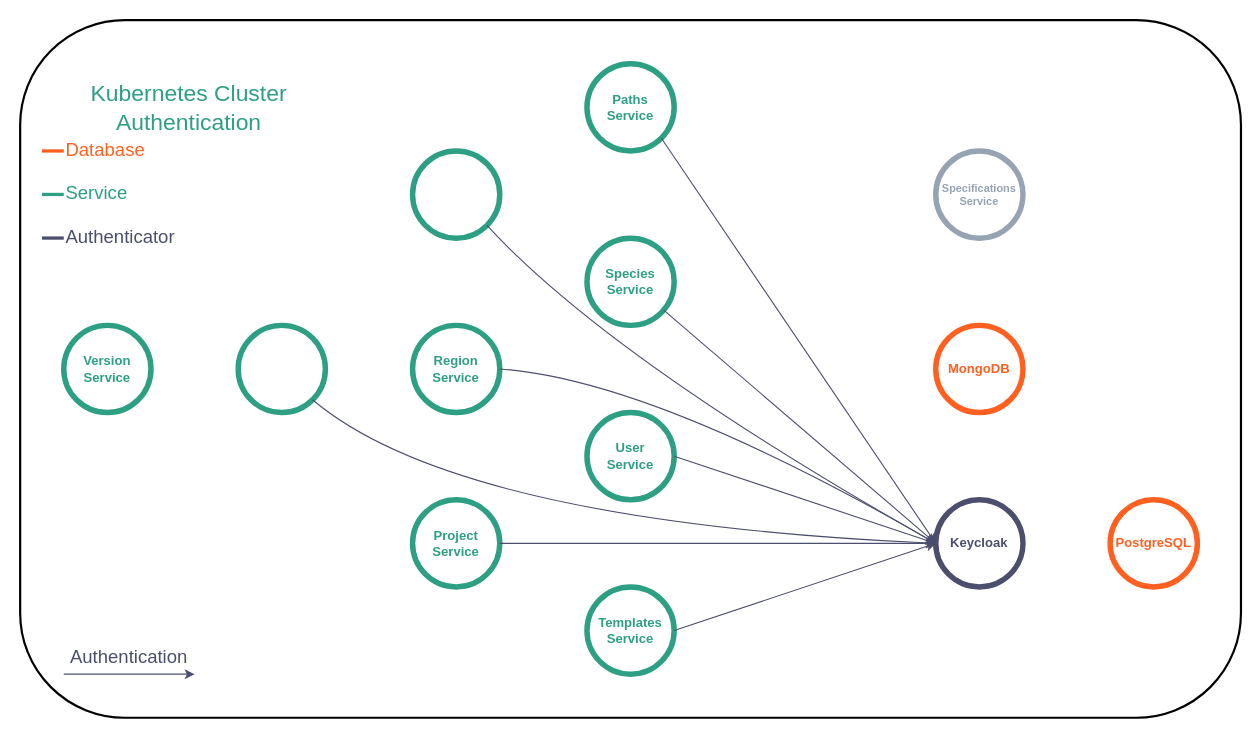
Image size: 1260x737. Some labels were removed from this diagram. Here are the shapes that lost their labels. From the top down, the centre of each, then its label:
point (455, 194): Census Service
point (281, 368): Sync Service
